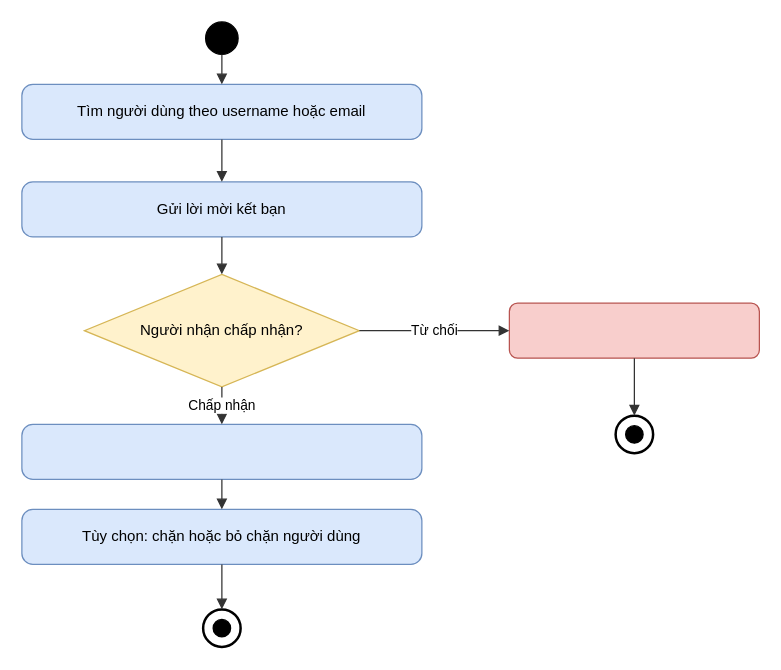
This 781x670 diagram has some shape labels left out. The shapes that lost their labels are listed below. From the top down, each one's centre as x and y in pixels, then its label:
[633,330]: Không kết bạn
[221,451]: Hai bên thành bạn, có thể mở DM
